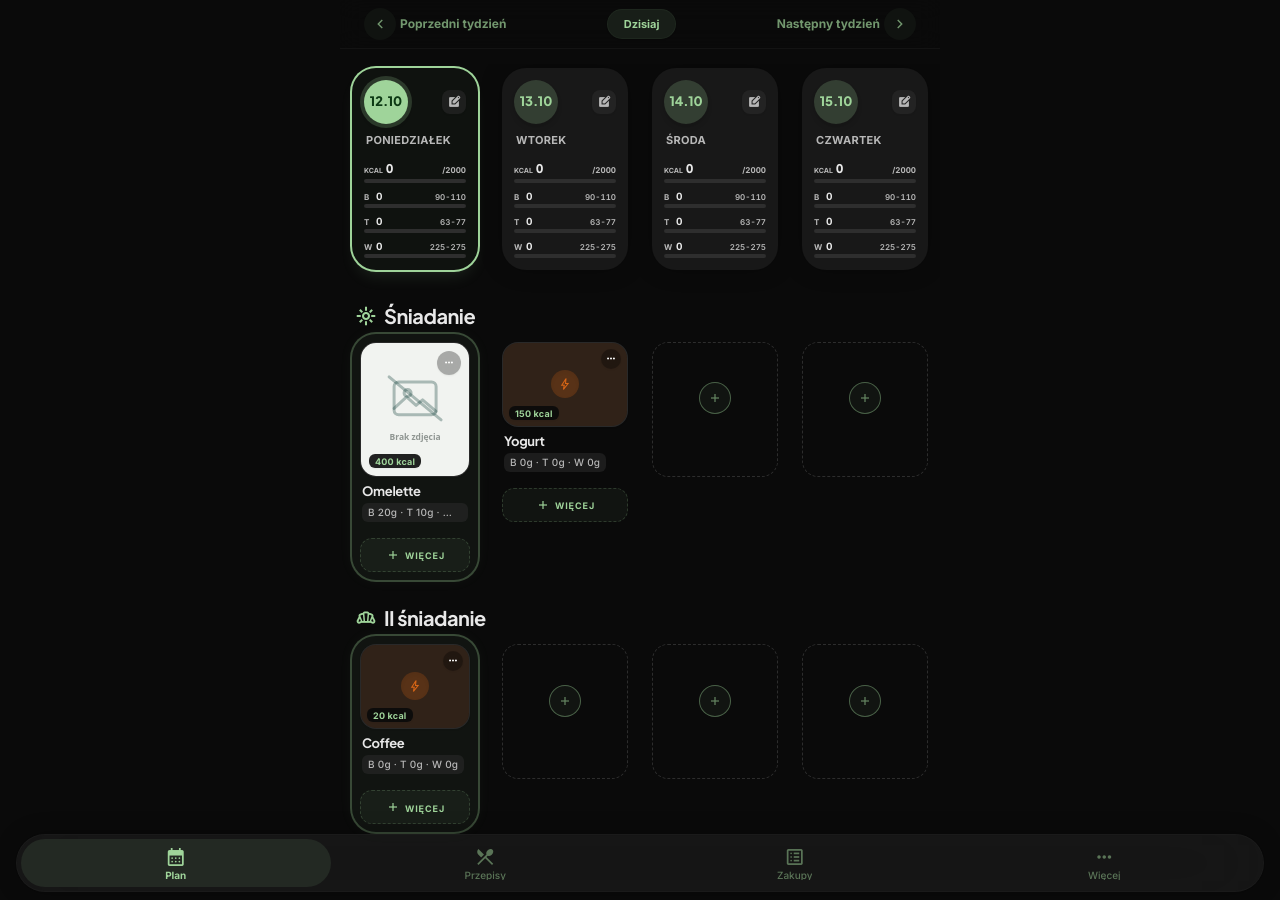
Test: Plan copying › tells the user when the day to copy has no meals
Click the button "edit_square" next to "15.10": (904, 102) [892,90,916,114]
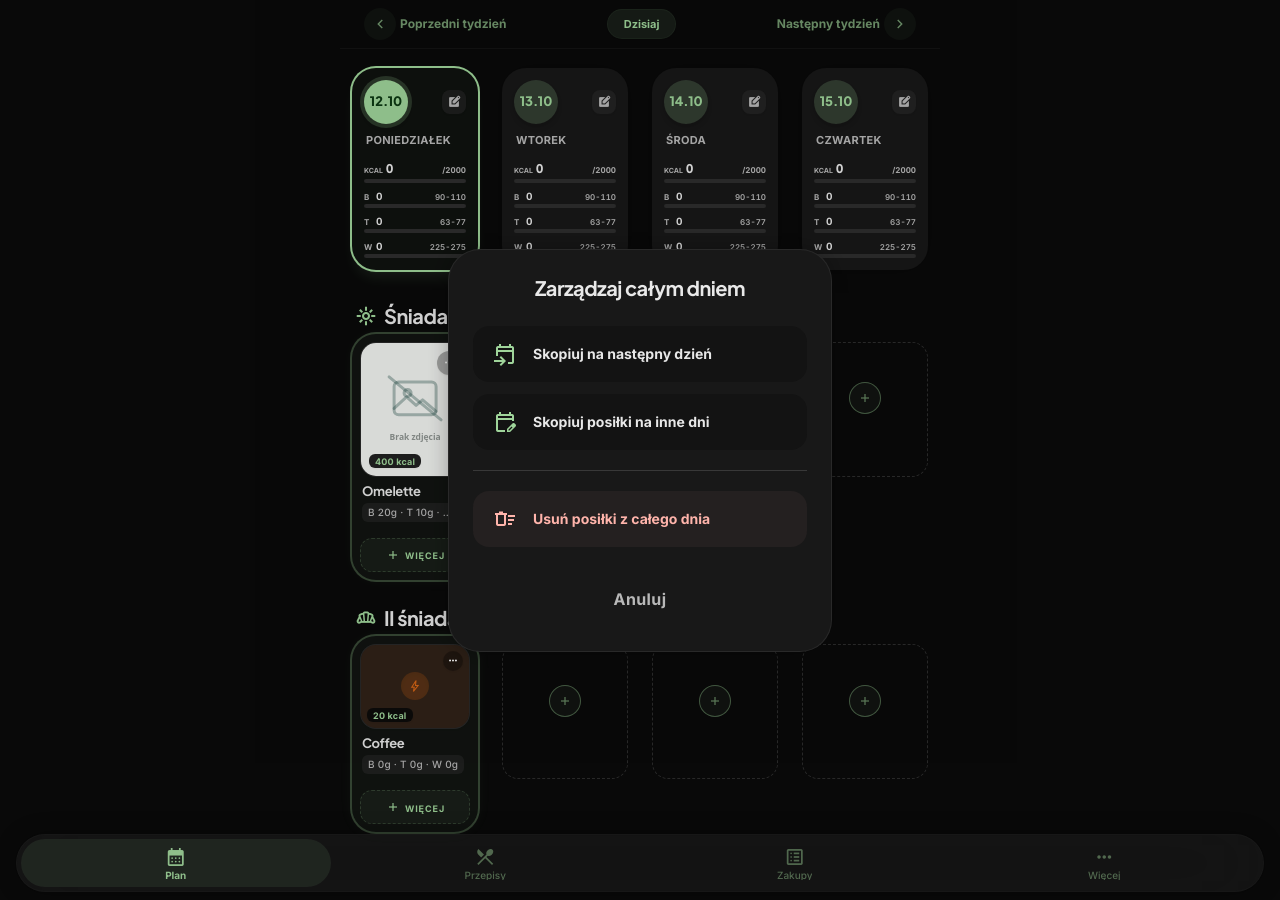
Click the button "Skopiuj na następny dzień": (640, 354) [473,326,807,382]
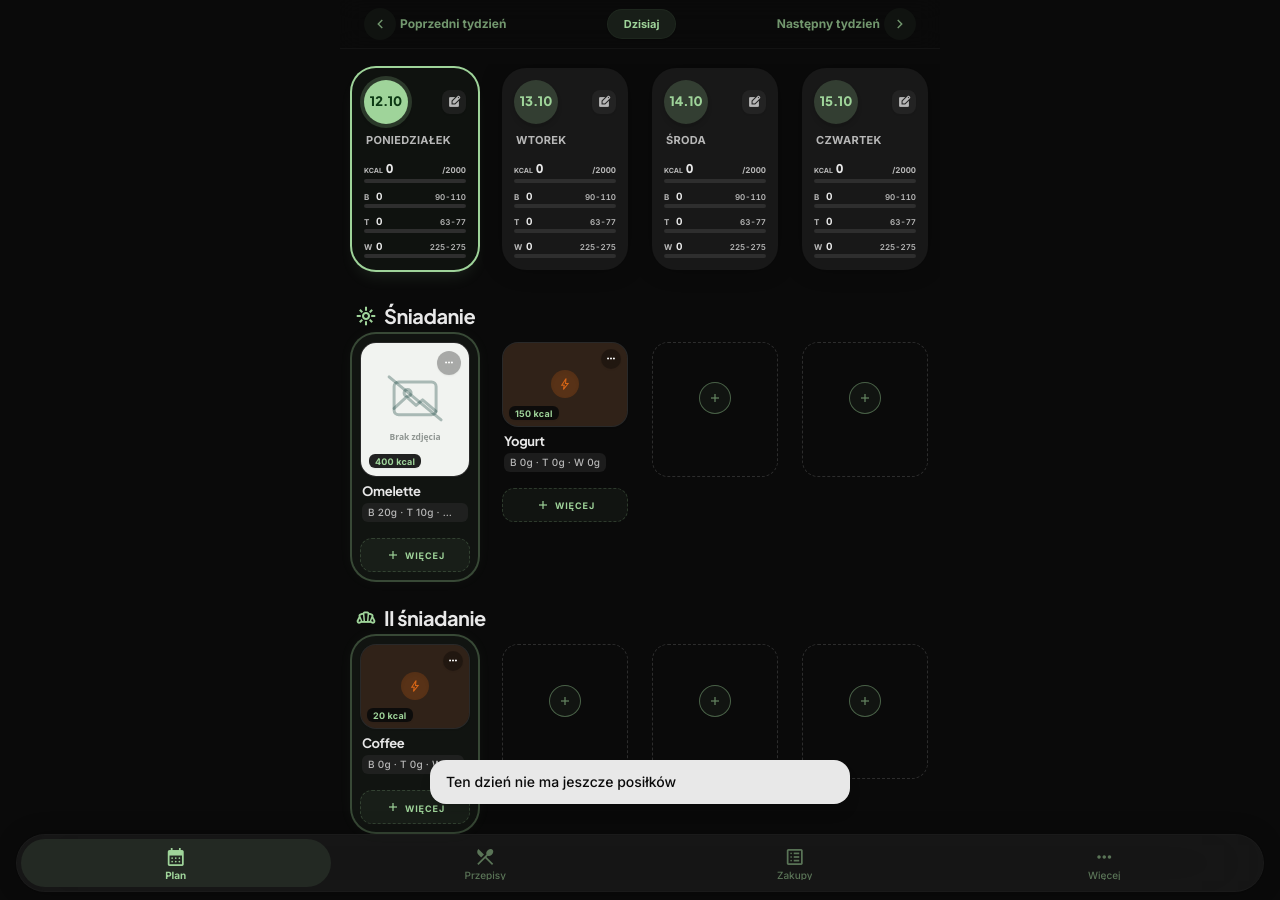
Expected: the text "Ten dzień nie ma jeszcze posiłków" is shown, [446,772,676,792]
